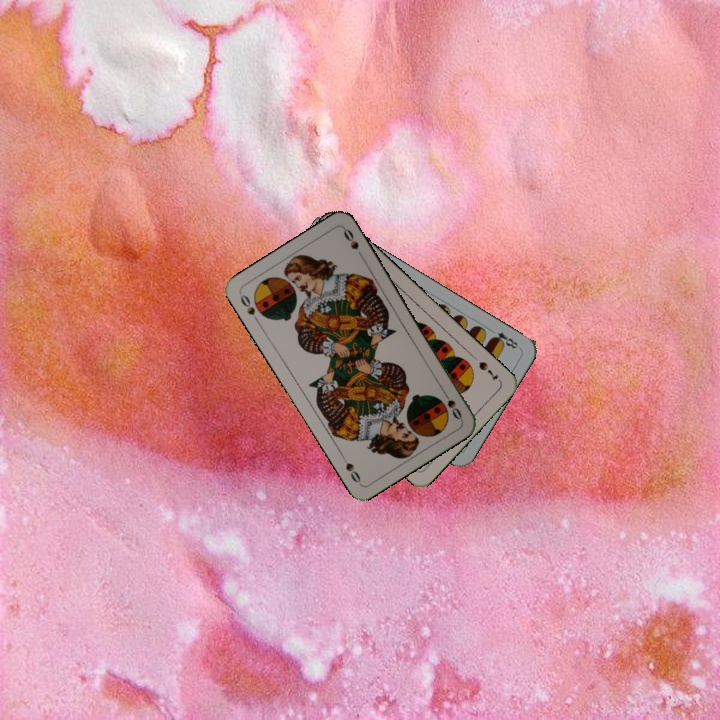E8: (486, 325, 521, 351)
S7: (475, 358, 502, 383)
SO: (438, 385, 465, 423), (236, 290, 262, 326)
